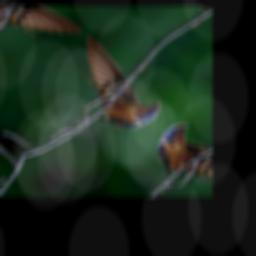Swallow: (37, 34, 176, 147)
